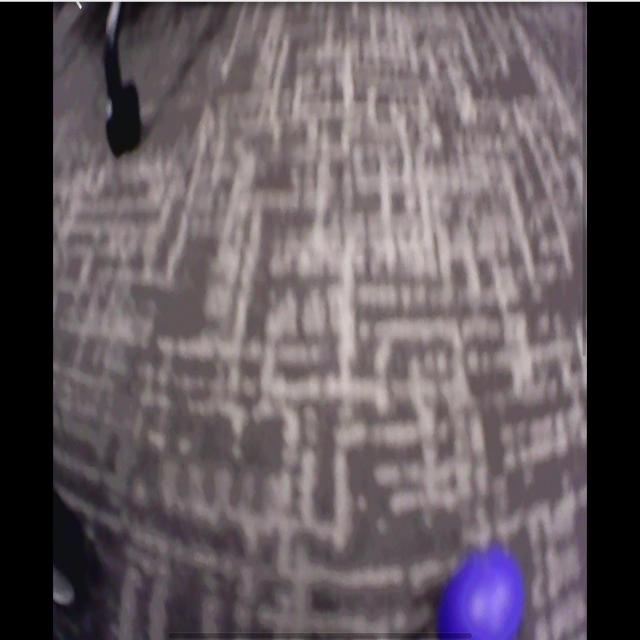ball: (438, 550, 524, 638)
